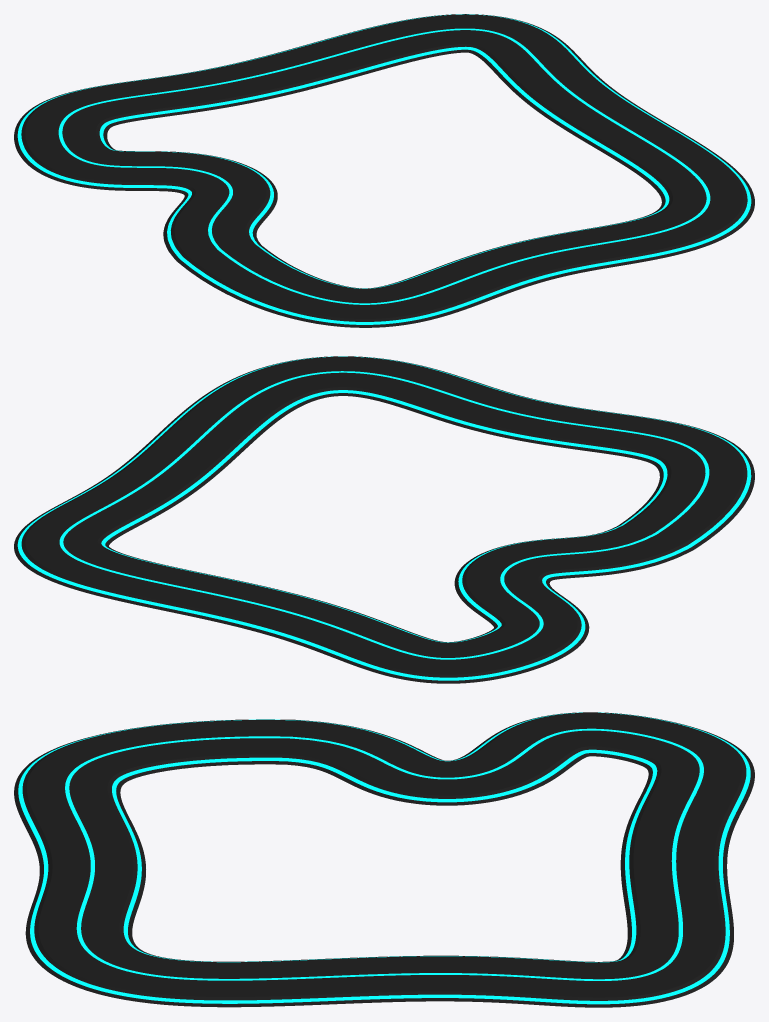
Rendered from track.glb.
3 views of the same model, one above another, from view 1: azimuth 30°, elevation 25°; view 2: azimuth 150°, elevation 25°; view 3: azimuth 270°, elevation 25° (orthographic). The views are drawn at different scales.
Parts seen in each view (by area): view 1: track, track_glow; view 2: track, track_glow; view 3: track, track_glow.
Part boxes in pixels (left/top/right/bottom): track: left=14, top=14, right=754, bottom=327; track_glow: left=17, top=14, right=751, bottom=324; track: left=14, top=356, right=754, bottom=683; track_glow: left=17, top=356, right=751, bottom=680; track: left=14, top=712, right=754, bottom=1007; track_glow: left=18, top=712, right=750, bottom=1004.
Size of what is drawn, in the model's own units: 163 by 1.77 by 173.
